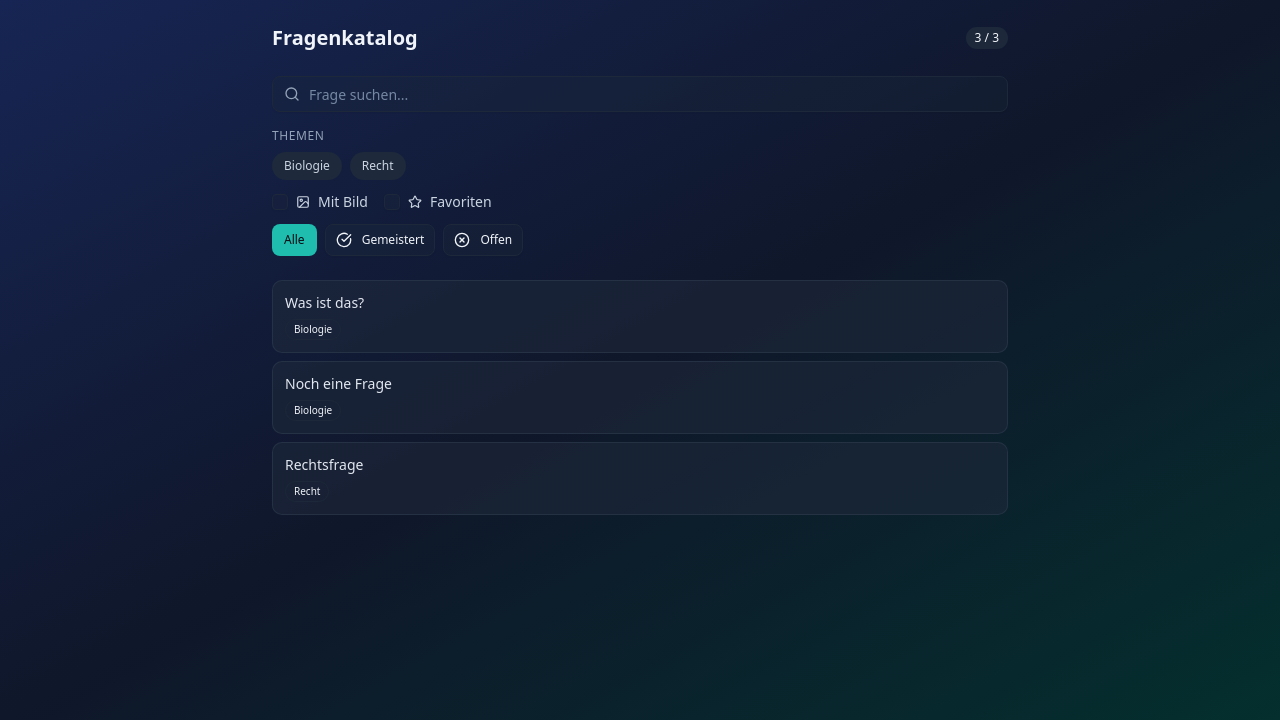
Test case: BrowseView › filters by search query
Type "Rechtsfrage" into the field labelled "Frage suchen" at (640, 94), box 272,76 -> 1008,112
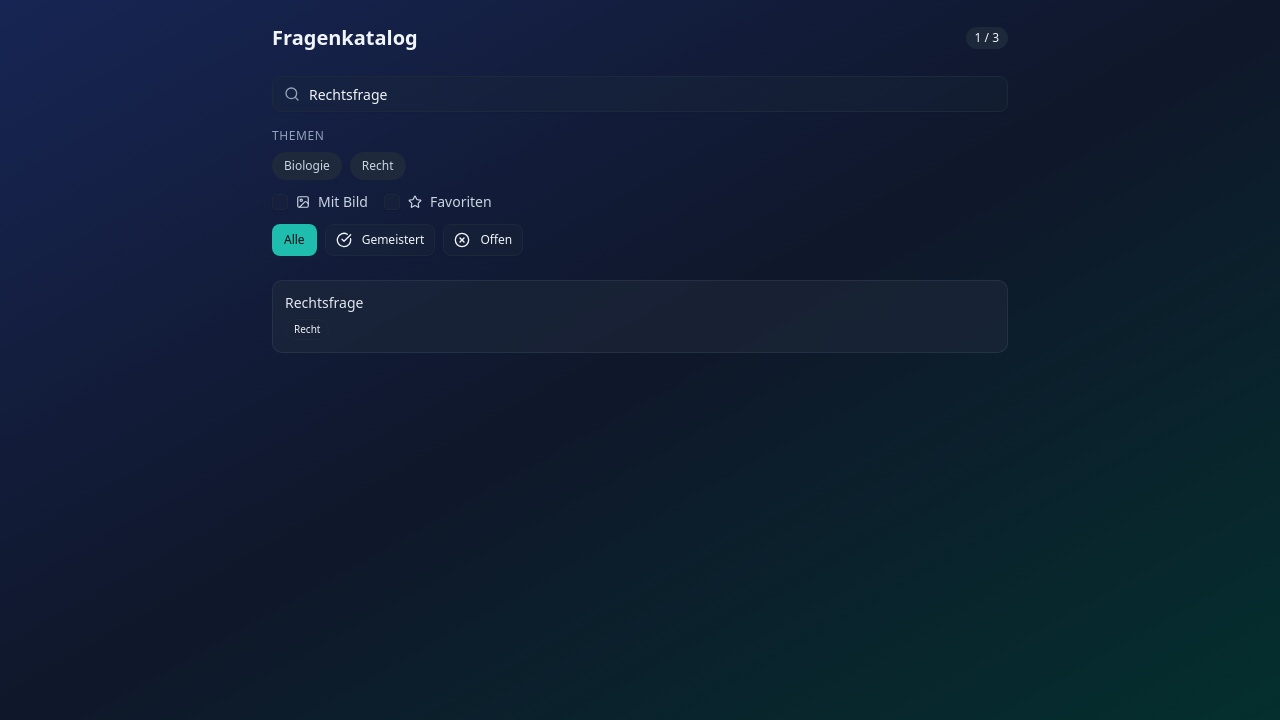
Expected: the text "1 / 3" is shown, 966,27 -> 1008,49
